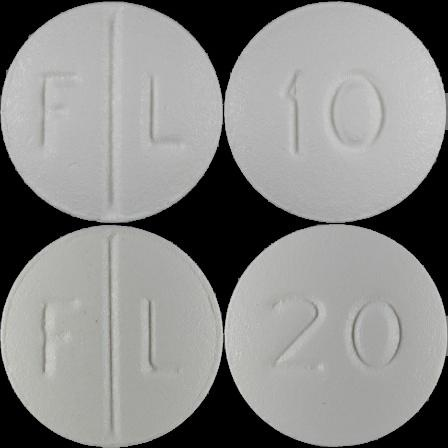0456-2010: (0, 0, 224, 224)
